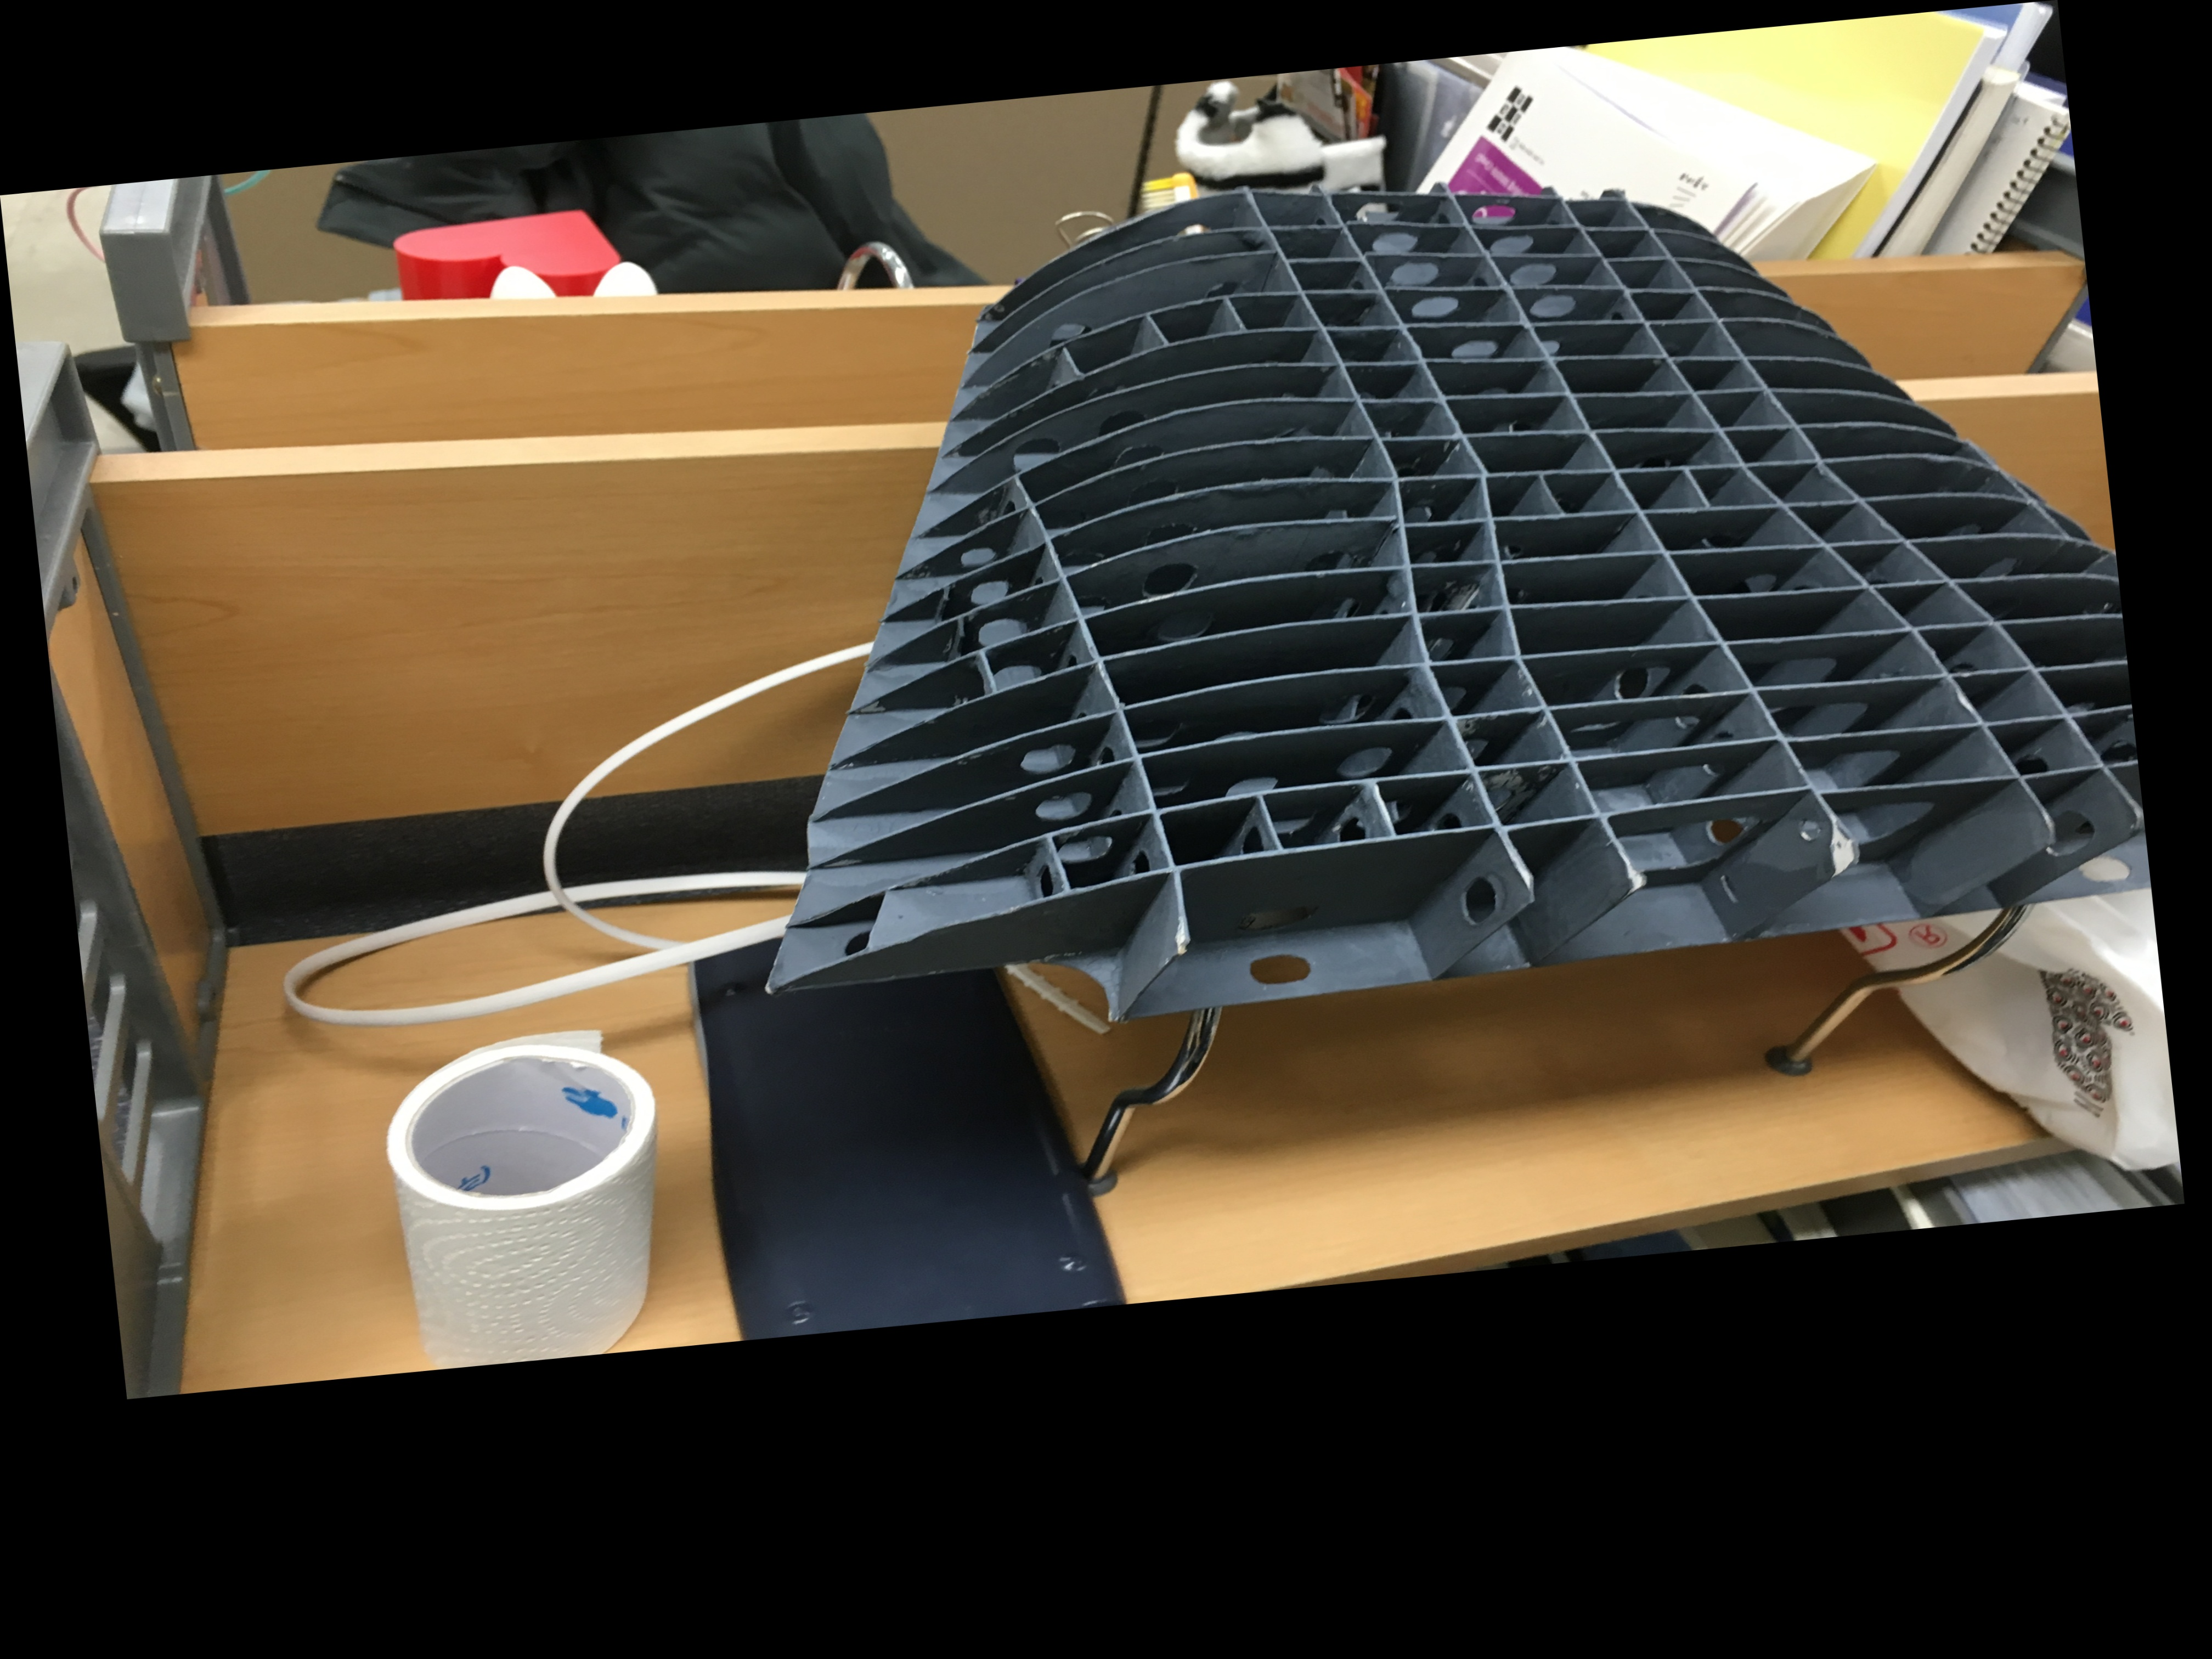A: (665, 108, 2158, 1091)
